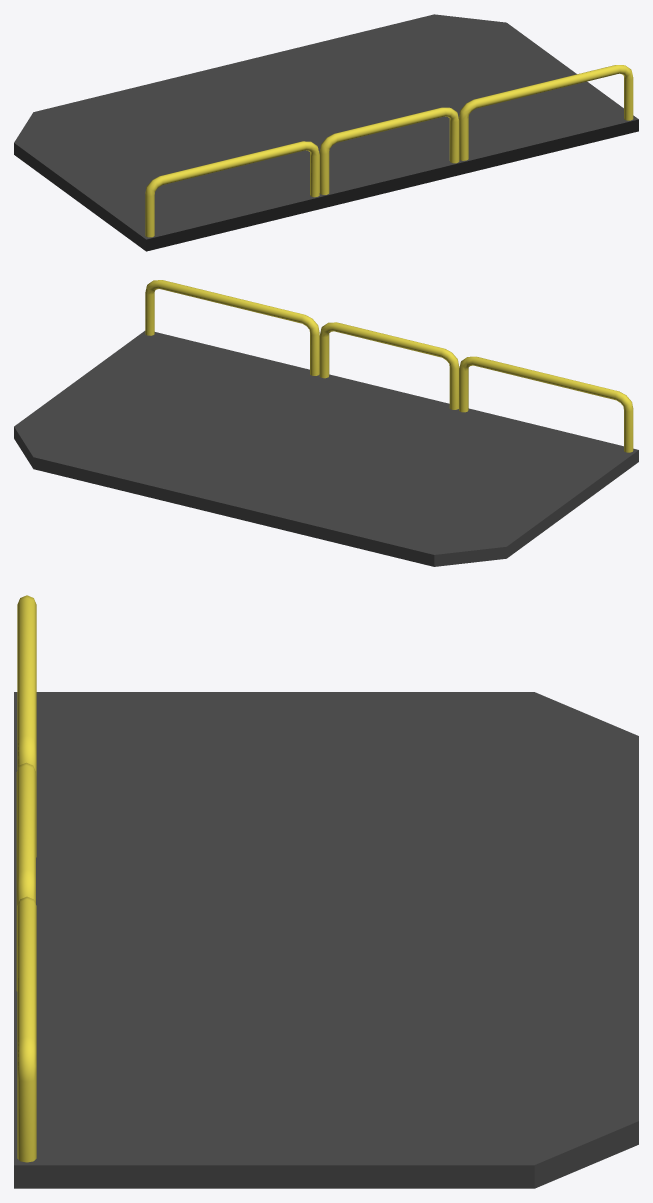
File: Platform_03.fbx
3 views of the same model, one above another, from view 1: azimuth 30°, elevation 25°; view 2: azimuth 150°, elevation 25°; view 3: azimuth 270°, elevation 25° (orthographic). The views are drawn at different scales.
Parts seen in each view (by area): view 1: Platform_01; view 2: Platform_01; view 3: Platform_01.
Boxes of the visible parts, x1=… form: Platform_01: x1=14, y1=14, x2=638, y2=251; Platform_01: x1=14, y1=280, x2=638, y2=566; Platform_01: x1=14, y1=595, x2=638, y2=1188.
Size of the model in its own units: 8.6 by 1.14 by 4.8.
